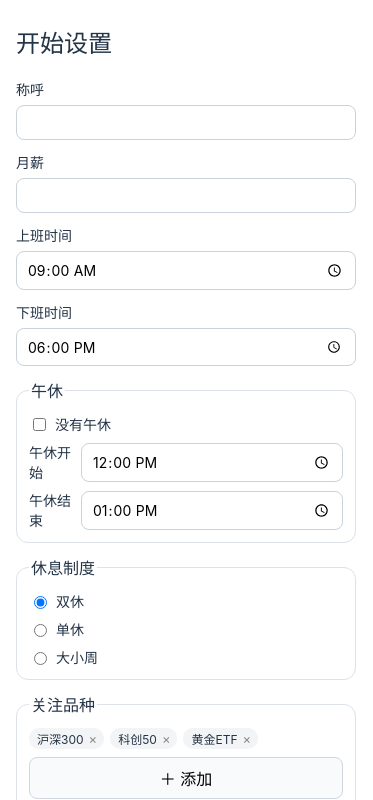
Test: SetupWizard › shows the work end validation error
Type "小叶" into the field labelled "称呼".
click(186, 122); type("小叶")  # box left=16, top=105, right=356, bottom=140
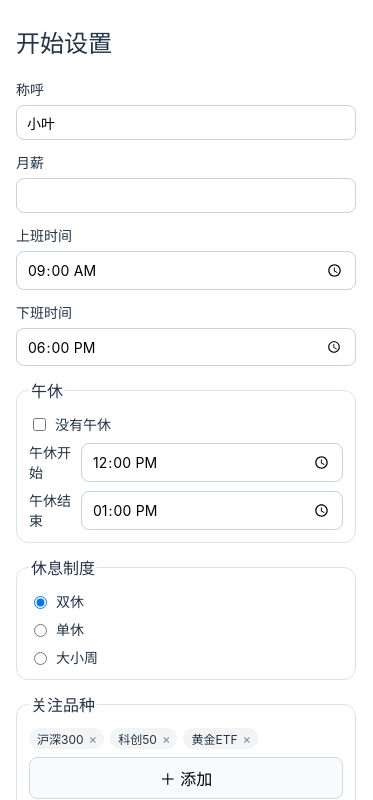
Type "21000" into the number field labelled "月薪".
click(186, 196); type("21000")  # box left=16, top=178, right=356, bottom=213
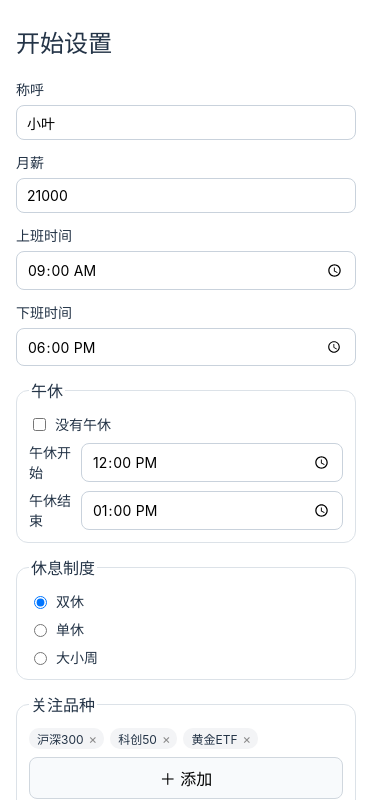
Replace the text in the time field labelled "下班时间" with "08:00" at (186, 347), box left=16, top=328, right=356, bottom=366
(page scrolled)
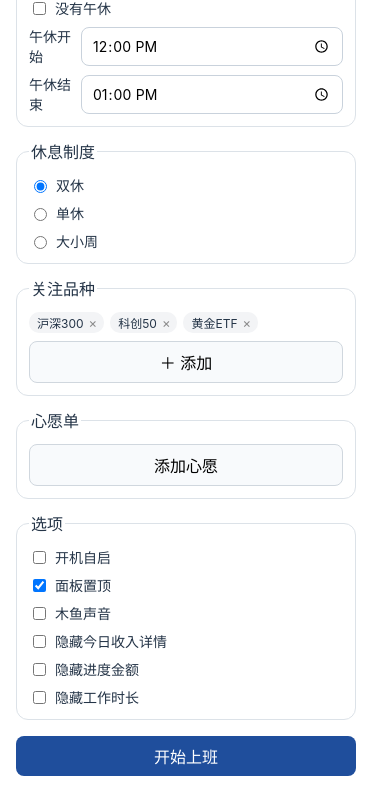
Click the button "开始上班".
click(186, 756)  # box left=16, top=736, right=356, bottom=776
(page scrolled)
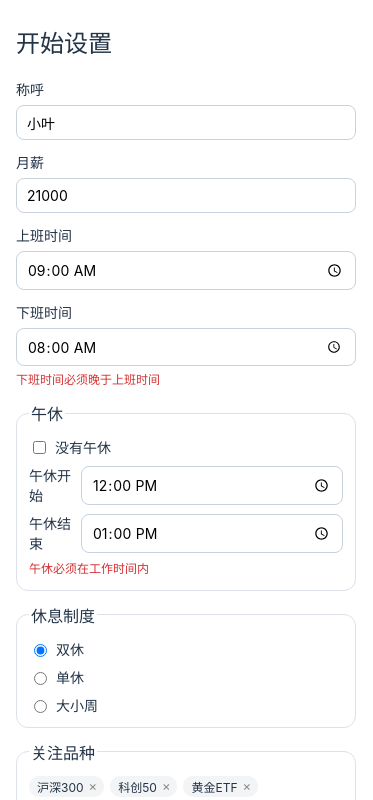
Expected: the text "下班时间必须晚于上班时间" is shown, left=16, top=372, right=160, bottom=387
